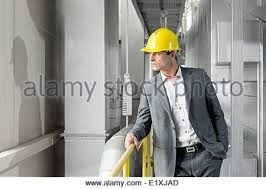helmet: (139, 26, 183, 55)
person with partial safety: (123, 27, 224, 177)
